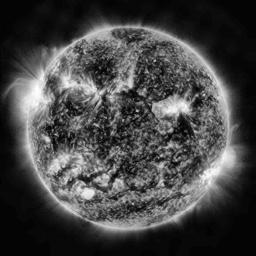solar flares: (50, 152, 83, 180), (154, 97, 188, 118), (59, 78, 97, 95), (38, 90, 54, 111)
sunspots: (88, 63, 114, 86), (48, 121, 68, 144), (174, 116, 188, 140), (116, 29, 144, 41), (193, 82, 204, 110), (127, 90, 141, 101)
